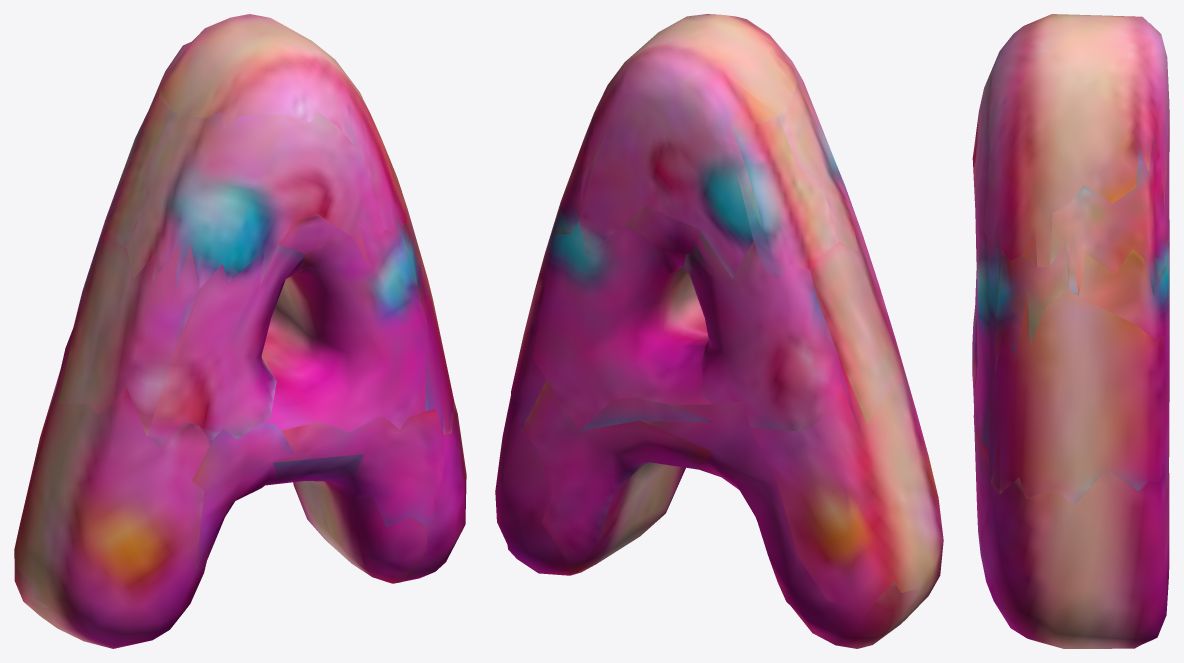
The picture shows the model from 3 angles, left to right: view 1: azimuth 30°, elevation 25°; view 2: azimuth 150°, elevation 25°; view 3: azimuth 270°, elevation 25°; orthographic projection.
Visible parts, largest first — view 1: Candy-Letter-A; view 2: Candy-Letter-A; view 3: Candy-Letter-A.
Boxes of the visible parts, <box> form: Candy-Letter-A: <box>14,14,466,648</box>; Candy-Letter-A: <box>495,14,943,648</box>; Candy-Letter-A: <box>972,14,1169,648</box>.
Size of the model in its own units: 0.2562 by 0.338 by 0.1077.
1 material, 1 textured.
